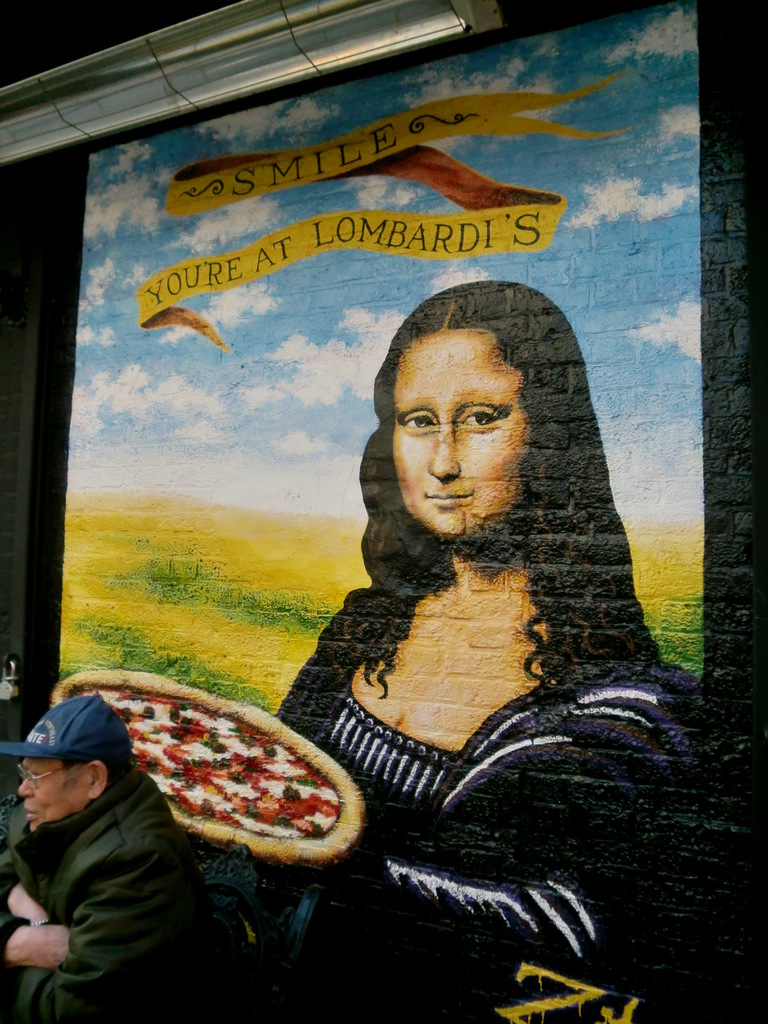Pizza: (47, 686, 371, 838)
